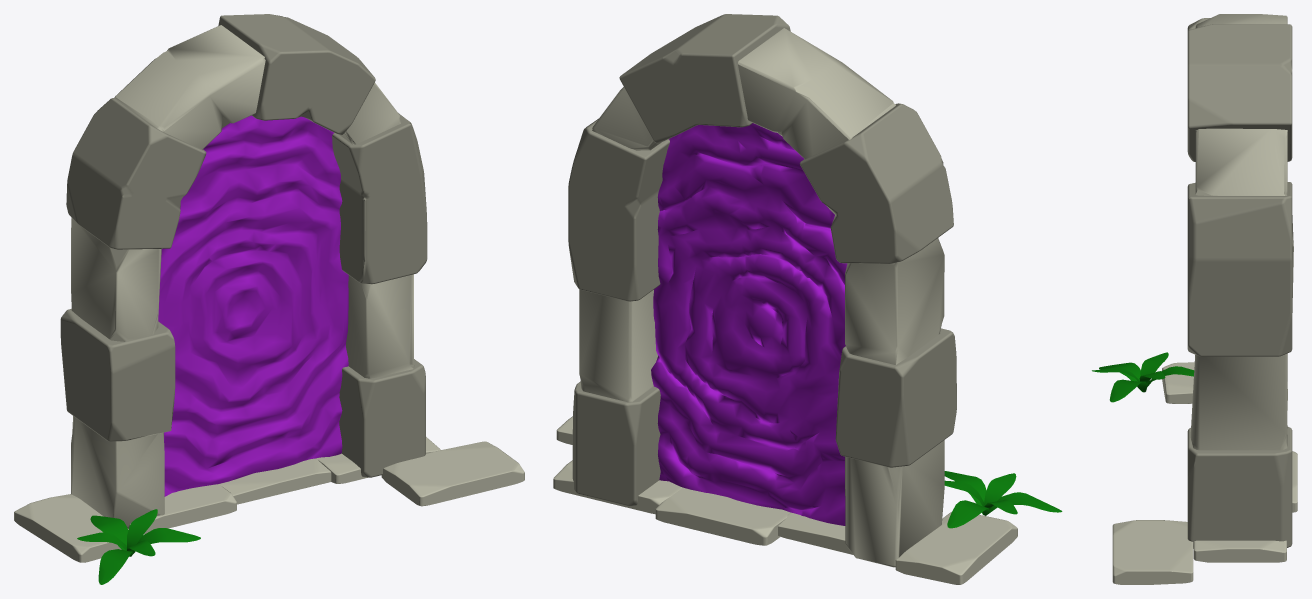
Rendered from Door.fbx.
3 renders of one model, left to right at view 1: azimuth 30°, elevation 25°; view 2: azimuth 150°, elevation 25°; view 3: azimuth 270°, elevation 25°, orthographic. The views are drawn at different scales.
Parts seen in each view (by area): view 1: Portal_Inner, Portal_Stones, Portal, Stone, Stone15, Plant, Stone2, Stone3, Stone4; view 2: Portal_Inner, Portal_Stones, Portal, Stone15, Stone2, Plant, Stone3, Stone4; view 3: Portal_Stones, Portal, Stone, Stone4, Plant, Stone15, Stone2.
Boxes of the visible parts, x1=… form: Portal_Inner: x1=158, y1=115, x2=348, y2=496; Portal_Stones: x1=60, y1=14, x2=427, y2=477; Portal: x1=71, y1=25, x2=414, y2=528; Stone: x1=381, y1=441, x2=524, y2=506; Stone15: x1=14, y1=494, x2=128, y2=562; Plant: x1=77, y1=509, x2=200, y2=584; Stone2: x1=218, y1=458, x2=331, y2=504; Stone3: x1=128, y1=484, x2=236, y2=534; Stone4: x1=316, y1=437, x2=440, y2=483; Portal_Inner: x1=651, y1=123, x2=847, y2=525; Portal_Stones: x1=568, y1=14, x2=956, y2=506; Portal: x1=579, y1=28, x2=944, y2=567; Stone15: x1=895, y1=512, x2=1017, y2=584; Stone2: x1=655, y1=487, x2=790, y2=545; Plant: x1=944, y1=471, x2=1062, y2=528; Stone3: x1=778, y1=512, x2=852, y2=554; Stone4: x1=553, y1=460, x2=682, y2=514; Portal_Stones: x1=1187, y1=18, x2=1293, y2=548; Portal: x1=1190, y1=14, x2=1287, y2=450; Stone: x1=1112, y1=520, x2=1193, y2=584; Stone4: x1=1193, y1=540, x2=1286, y2=562; Plant: x1=1092, y1=352, x2=1194, y2=402; Stone15: x1=1162, y1=362, x2=1287, y2=403; Stone2: x1=1292, y1=451, x2=1297, y2=512.
Bounding box in the file's own units: 430 × 433 × 178.
